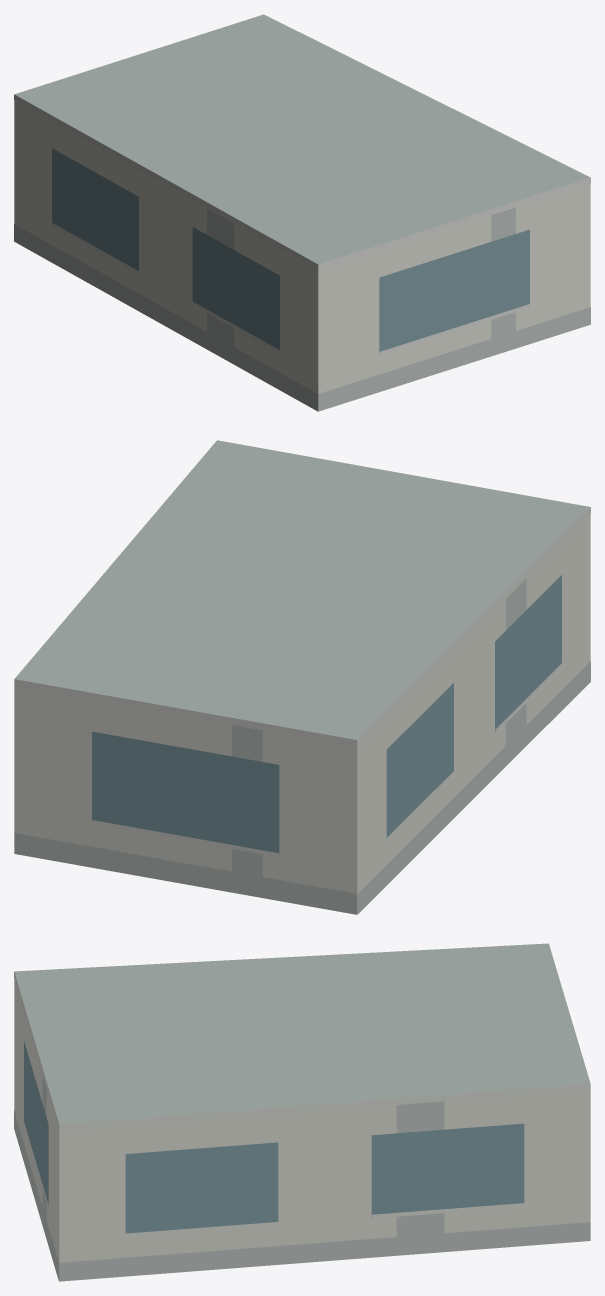
The model's file is residential-f8f695ec-4b31-4c7b-a360-b4eb2d17a2bb.glb.
3 renders of one model, top to bottom at view 1: azimuth 30°, elevation 25°; view 2: azimuth 150°, elevation 25°; view 3: azimuth 270°, elevation 25°, orthographic. The views are drawn at different scales.
Parts seen in each view (by area): view 1: residential-f8f695ec-4b31-4c7b-a360-b4eb2d17a2bb.tmp; view 2: residential-f8f695ec-4b31-4c7b-a360-b4eb2d17a2bb.tmp; view 3: residential-f8f695ec-4b31-4c7b-a360-b4eb2d17a2bb.tmp.
Part boxes in pixels (box(x1,y1,x2,y2)): residential-f8f695ec-4b31-4c7b-a360-b4eb2d17a2bb.tmp: box(14, 14, 590, 411); residential-f8f695ec-4b31-4c7b-a360-b4eb2d17a2bb.tmp: box(14, 440, 590, 914); residential-f8f695ec-4b31-4c7b-a360-b4eb2d17a2bb.tmp: box(14, 943, 590, 1281).
Bounding box in the file's own units: 7.55 × 3.05 × 10.15.
